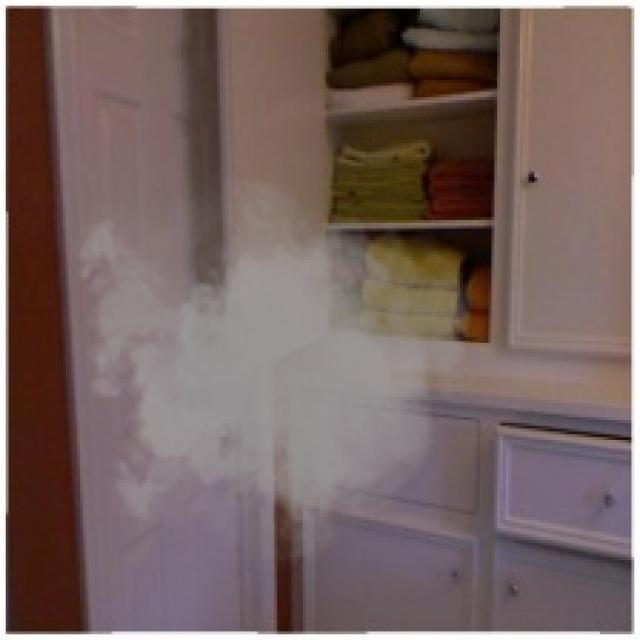smoke: (66, 157, 477, 583)
